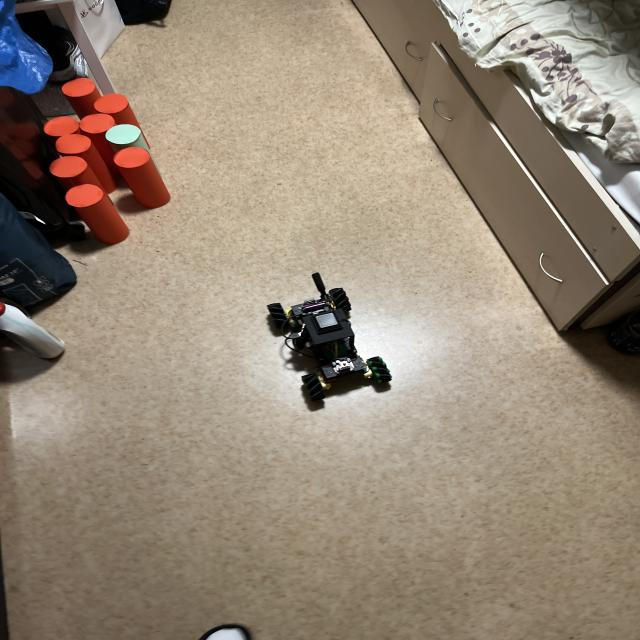robot: (268, 273, 391, 401)
